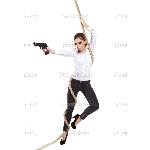Pistol: (32, 41, 49, 55)
